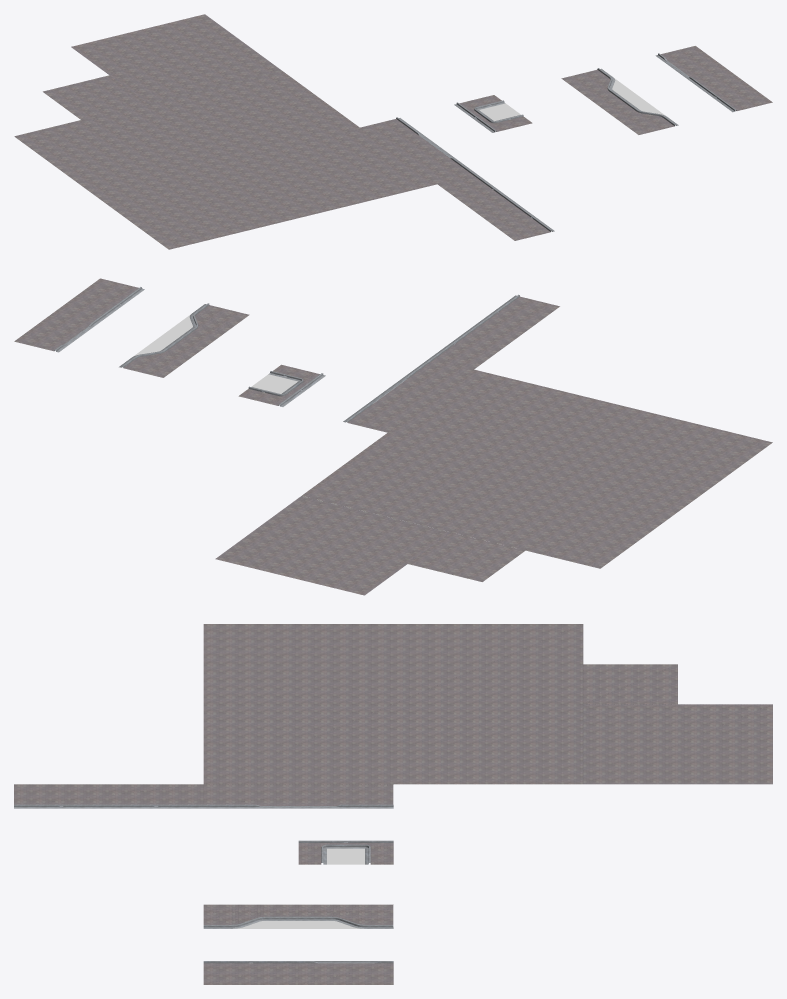
Rendered from Sidewalk.fbx.
3 views of the same model, one above another, from view 1: azimuth 30°, elevation 25°; view 2: azimuth 150°, elevation 25°; view 3: azimuth 270°, elevation 25° (orthographic). The views are drawn at different scales.
Parts seen in each view (by area): view 1: Sidewalk_Ground_40m, Sidewalk_Ground_20m, Sidewalk_Default_20m, Sidewalk_BusStop, Sidewalk_Entrance_20m, Sidewalk_Ground_10m, Sidewalk_Half_End, Sidewalk_Default_10m, Sidewalk_Entrance_10m; view 2: Sidewalk_Ground_40m, Sidewalk_Ground_20m, Sidewalk_BusStop, Sidewalk_Default_20m, Sidewalk_Entrance_20m, Sidewalk_Ground_10m, Sidewalk_Half_End, Sidewalk_Entrance_10m, Sidewalk_Default_10m; view 3: Sidewalk_Ground_40m, Sidewalk_Ground_20m, Sidewalk_Entrance_20m, Sidewalk_BusStop, Sidewalk_Default_20m, Sidewalk_Ground_10m, Sidewalk_Half_End, Sidewalk_Default_10m, Sidewalk_Entrance_10m.
Boxes of the visible parts, x1,y1,x2,y2 form: Sidewalk_Ground_40m: (14, 71, 436, 249); Sidewalk_Ground_20m: (71, 14, 281, 103); Sidewalk_Default_20m: (438, 174, 554, 240); Sidewalk_BusStop: (561, 68, 678, 134); Sidewalk_Entrance_20m: (360, 117, 477, 184); Sidewalk_Ground_10m: (43, 75, 147, 119); Sidewalk_Half_End: (454, 95, 532, 132); Sidewalk_Default_10m: (694, 74, 772, 112); Sidewalk_Entrance_10m: (655, 46, 733, 83); Sidewalk_Ground_40m: (302, 369, 772, 568); Sidewalk_Ground_20m: (215, 496, 450, 595); Sidewalk_BusStop: (119, 303, 249, 377); Sidewalk_Default_20m: (429, 294, 559, 369); Sidewalk_Entrance_20m: (343, 358, 473, 432); Sidewalk_Ground_10m: (408, 532, 524, 581); Sidewalk_Half_End: (238, 364, 325, 406); Sidewalk_Entrance_10m: (14, 310, 101, 352); Sidewalk_Default_10m: (57, 278, 144, 320); Sidewalk_Ground_40m: (203, 624, 583, 784); Sidewalk_Ground_20m: (583, 704, 772, 784); Sidewalk_Entrance_20m: (203, 784, 393, 808); Sidewalk_BusStop: (203, 904, 393, 928); Sidewalk_Default_20m: (14, 784, 203, 808); Sidewalk_Ground_10m: (583, 664, 677, 704); Sidewalk_Half_End: (298, 840, 393, 864); Sidewalk_Default_10m: (203, 961, 298, 984); Sidewalk_Entrance_10m: (298, 961, 393, 984).
Bounding box in the file's own units: 90 × 0.2 × 80.
